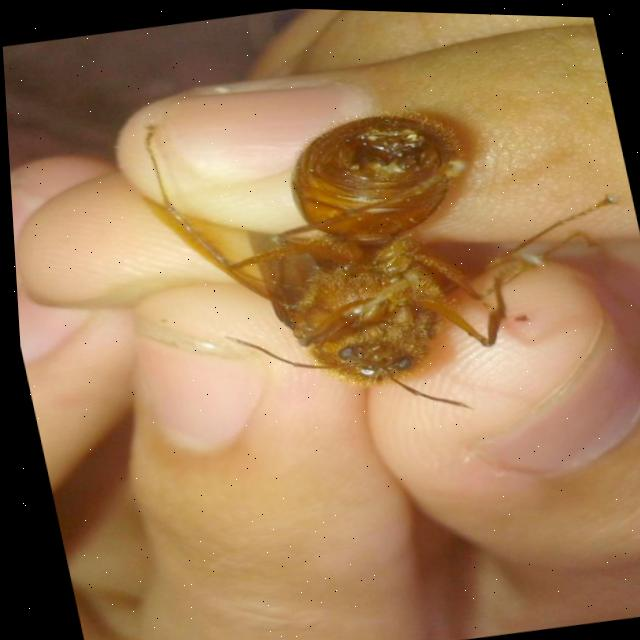Alive-Male-Alate: (120, 52, 640, 456)
